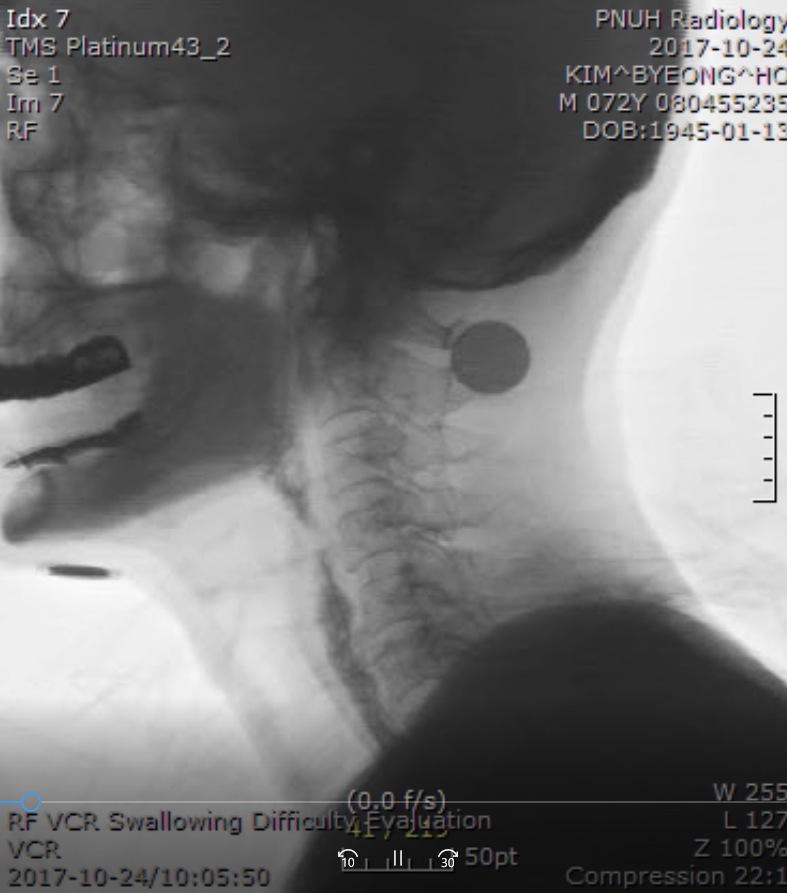food: (312, 534, 391, 747)
